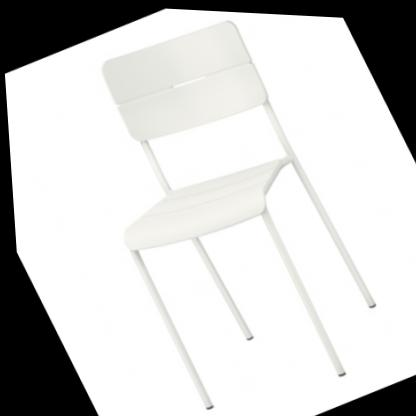Chair: (30, 1, 405, 416)
